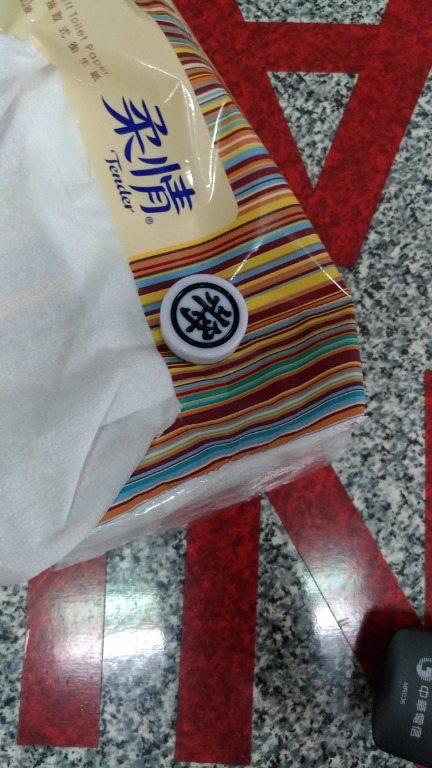b-king: (143, 263, 287, 371)
